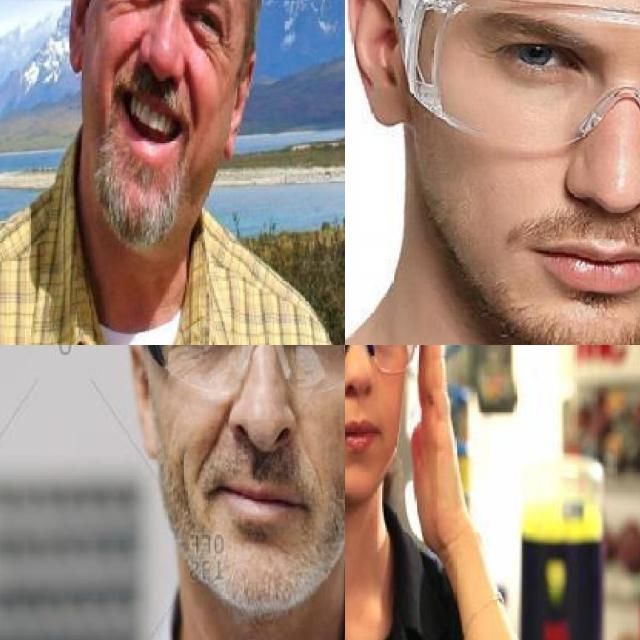No_Ear-Protection: (345, 0, 415, 127)
face_mask: (393, 0, 640, 176)
face_nomask: (479, 14, 640, 308), (155, 345, 345, 548), (90, 0, 236, 161), (345, 345, 408, 483)
glasses: (138, 345, 345, 384)
hand_noglove: (410, 345, 473, 544)
person: (345, 345, 535, 640)
